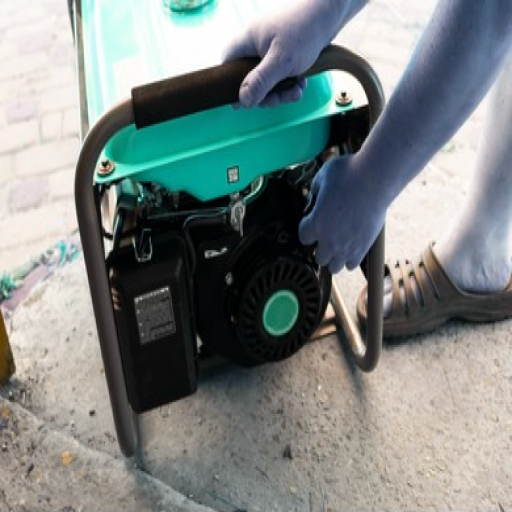portable_generator: (64, 1, 386, 460)
